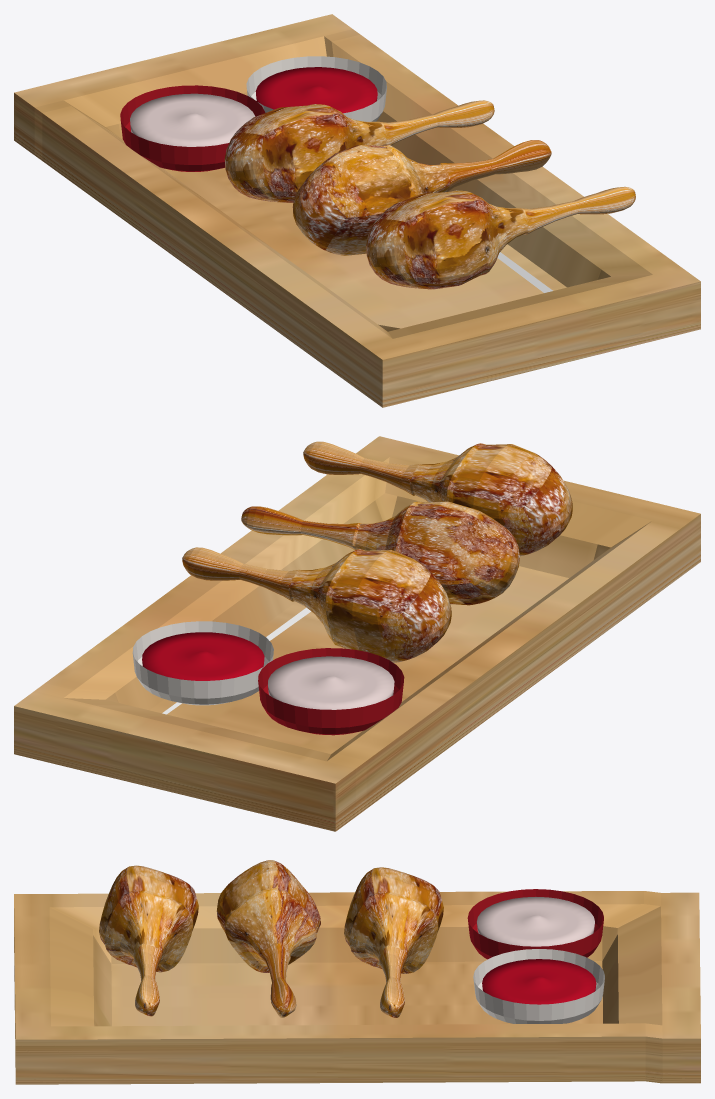
File: chicken-1.glb
The picture shows the model from 3 angles, top to bottom: view 1: azimuth 30°, elevation 25°; view 2: azimuth 150°, elevation 25°; view 3: azimuth 270°, elevation 25°; orthographic projection. The views are drawn at different scales.
Visible parts, largest first — view 1: Cube.001, Cube, Cube.002, Cube.003, Circle.001, Circle.003, Circle, Circle.002; view 2: Cube.001, Cube.003, Cube, Cube.002, Circle.001, Circle, Circle.002, Circle.003; view 3: Cube.001, Cube.002, Cube, Cube.003, Circle.001, Circle.002, Circle.003, Circle.
Boxes of the visible parts, x1,y1,x2,y2 form: Cube.001: (14, 14, 700, 407); Cube: (366, 186, 635, 289); Cube.002: (292, 140, 551, 255); Cube.003: (224, 100, 494, 202); Circle.001: (130, 93, 255, 146); Circle.003: (255, 67, 377, 113); Circle: (120, 85, 265, 171); Circle.002: (246, 56, 386, 121); Cube.001: (14, 436, 700, 831); Cube.003: (182, 547, 451, 662); Cube: (303, 441, 572, 556); Cube.002: (241, 501, 519, 605); Circle.001: (268, 656, 394, 709); Circle: (258, 648, 404, 735); Circle.002: (132, 621, 273, 705); Circle.003: (142, 632, 264, 680); Cube.001: (14, 891, 700, 1084); Cube.002: (216, 860, 320, 1017); Cube: (99, 865, 198, 1016); Cube.003: (344, 867, 443, 1017); Circle.001: (477, 897, 594, 946); Circle.002: (473, 949, 604, 1023); Circle.003: (482, 959, 596, 1004); Circle: (467, 889, 603, 959).
Size of the model in its own units: 33.89 by 13.29 by 65.87.
6 materials, 2 textured.
